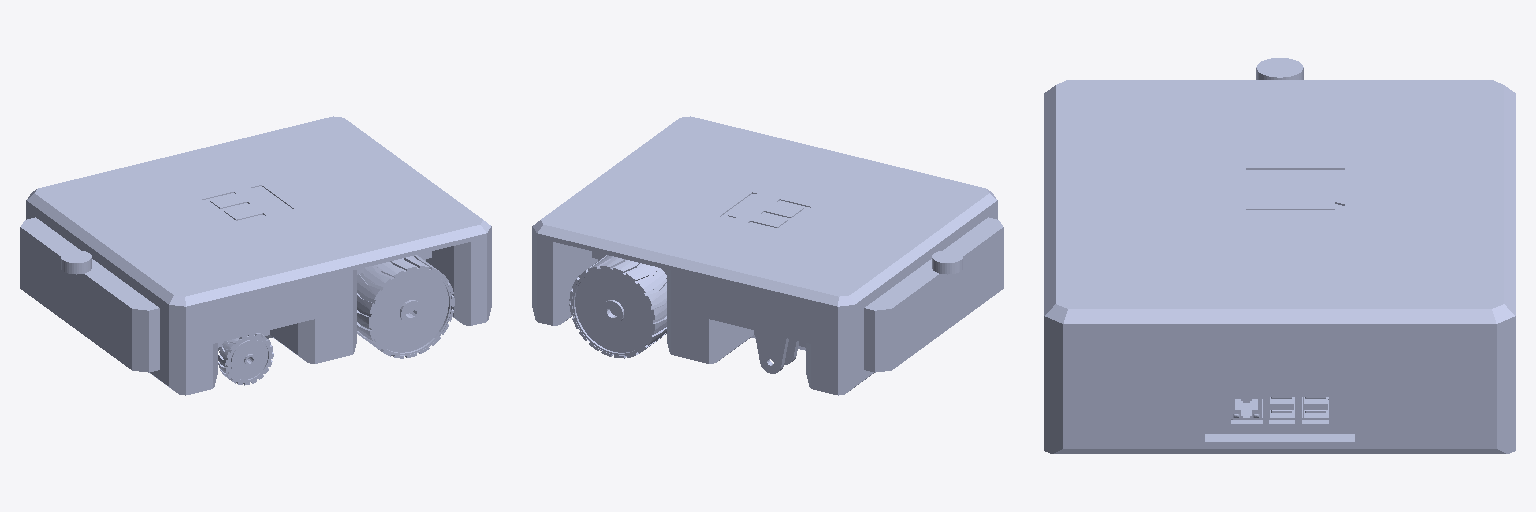
URDF robot description (AGV):
<?xml version="1.0" encoding="utf-8"?>
<!-- This URDF was automatically created by SolidWorks to URDF Exporter! Originally created by Stephen Brawner (brawner@gmail.com) 
     Commit Version: 1.6.0-4-g7f85cfe  Build Version: 1.6.7995.38578
     For more information, please see http://wiki.ros.org/sw_urdf_exporter -->
<robot
  name="AGV">
  <link
    name="base_link">
    <inertial>
      <origin
        xyz="6.7982E-05 0.05251 -0.013358"
        rpy="0 0 0" />
      <mass
        value="2.0304" />
      <inertia
        ixx="0.010955"
        ixy="0.00011029"
        ixz="7.5942E-08"
        iyy="0.029243"
        iyz="-7.82E-08"
        izz="0.018838" />
    </inertial>
    <visual>
      <origin
        xyz="0 0 0"
        rpy="0 0 0" />
      <geometry>
        <mesh
          filename="package://agv/meshes/base_link.STL" />
      </geometry>
      <material
        name="">
        <color
          rgba="0.79216 0.81961 0.93333 1" />
      </material>
    </visual>
    <collision>
      <origin
        xyz="0 0 0"
        rpy="0 0 0" />
      <geometry>
        <mesh
          filename="package://agv/meshes/base_link.STL" />
      </geometry>
    </collision>
  </link>
  <link
    name="Left_Wheel">
    <inertial>
      <origin
        xyz="-8.3267E-17 1.2434E-05 0.0175"
        rpy="0 0 0" />
      <mass
        value="0.15008" />
      <inertia
        ixx="7.2602E-05"
        ixy="-1.3674E-15"
        ixz="1.8E-14"
        iyy="7.2596E-05"
        iyz="-1.7782E-14"
        izz="0.0001208" />
    </inertial>
    <visual>
      <origin
        xyz="0 0 0"
        rpy="0 0 0" />
      <geometry>
        <mesh
          filename="package://agv/meshes/Left_Wheel.STL" />
      </geometry>
      <material
        name="">
        <color
          rgba="0.79216 0.81961 0.93333 1" />
      </material>
    </visual>
    <collision>
      <origin
        xyz="0 0 0"
        rpy="0 0 0" />
      <geometry>
        <mesh
          filename="package://agv/meshes/Left_Wheel.STL" />
      </geometry>
    </collision>
  </link>
  <joint
    name="lw"
    type="continuous">
    <origin
      xyz="0.078146 -0.076629 0.033354"
      rpy="1.5708 0.74576 0" />
    <parent
      link="base_link" />
    <child
      link="Left_Wheel" />
    <axis
      xyz="0 0 1" />
  </joint>
  <link
    name="Right_Wheel">
    <inertial>
      <origin
        xyz="-1.3878E-17 1.2434E-05 -0.0175"
        rpy="0 0 0" />
      <mass
        value="0.15008" />
      <inertia
        ixx="7.2602E-05"
        ixy="-1.3674E-15"
        ixz="1.8E-14"
        iyy="7.2596E-05"
        iyz="-1.7782E-14"
        izz="0.0001208" />
    </inertial>
    <visual>
      <origin
        xyz="0 0 0"
        rpy="0 0 0" />
      <geometry>
        <mesh
          filename="package://agv/meshes/Right_Wheel.STL" />
      </geometry>
      <material
        name="">
        <color
          rgba="0.79216 0.81961 0.93333 1" />
      </material>
    </visual>
    <collision>
      <origin
        xyz="0 0 0"
        rpy="0 0 0" />
      <geometry>
        <mesh
          filename="package://agv/meshes/Right_Wheel.STL" />
      </geometry>
    </collision>
  </link>
  <joint
    name="rw"
    type="continuous">
    <origin
      xyz="0.078146 0.10337 0.033354"
      rpy="1.5708 0.28991 0" />
    <parent
      link="base_link" />
    <child
      link="Right_Wheel" />
    <axis
      xyz="0 0 1" />
  </joint>
  <link
    name="Castor_Holder1">
    <inertial>
      <origin
        xyz="1.38777878078145E-17 0.0278545725602815 -1.38777878078145E-17"
        rpy="0 0 0" />
      <mass
        value="0.0125096896264229" />
      <inertia
        ixx="2.92007120935875E-06"
        ixy="-8.34472187194977E-22"
        ixz="-3.24777992708325E-09"
        iyy="1.65017674110526E-06"
        iyz="7.02147854422582E-23"
        izz="2.61649486462288E-06" />
    </inertial>
    <visual>
      <origin
        xyz="0 0 0"
        rpy="0 0 0" />
      <geometry>
        <mesh
          filename="package://agv/meshes/Castor_Holder1.STL" />
      </geometry>
      <material
        name="">
        <color
          rgba="0.792156862745098 0.819607843137255 0.933333333333333 1" />
      </material>
    </visual>
    <collision>
      <origin
        xyz="0 0 0"
        rpy="0 0 0" />
      <geometry>
        <mesh
          filename="package://agv/meshes/Castor_Holder1.STL" />
      </geometry>
    </collision>
  </link>
  <joint
    name="ch1"
    type="continuous">
    <origin
      xyz="-0.061854 -0.086629 0.006354"
      rpy="1.5708 0 -0.010697" />
    <parent
      link="base_link" />
    <child
      link="Castor_Holder1" />
    <axis
      xyz="0 1 0" />
  </joint>
  <link
    name="Castor_Wheel1">
    <inertial>
      <origin
        xyz="6.93889390390723E-18 -2.77555756156289E-17 -4.16333634234434E-17"
        rpy="0 0 0" />
      <mass
        value="0.0177238850700305" />
      <inertia
        ixx="2.37570442022247E-06"
        ixy="-3.91485784711108E-17"
        ixz="2.08354491983995E-08"
        iyy="2.37548153974429E-06"
        iyz="-3.65866341682527E-16"
        izz="4.32323453510918E-06" />
    </inertial>
    <visual>
      <origin
        xyz="0 0 0"
        rpy="0 0 0" />
      <geometry>
        <mesh
          filename="package://agv/meshes/Castor_Wheel1.STL" />
      </geometry>
      <material
        name="">
        <color
          rgba="0.792156862745098 0.819607843137255 0.933333333333333 1" />
      </material>
    </visual>
    <collision>
      <origin
        xyz="0 0 0"
        rpy="0 0 0" />
      <geometry>
        <mesh
          filename="package://agv/meshes/Castor_Wheel1.STL" />
      </geometry>
    </collision>
  </link>
  <joint
    name="cw1"
    type="continuous">
    <origin
      xyz="0 0.01 0"
      rpy="0 0 0" />
    <parent
      link="Castor_Holder1" />
    <child
      link="Castor_Wheel1" />
    <axis
      xyz="0.010697 0 0.99994" />
  </joint>
  <link
    name="Castor_Holder2">
    <inertial>
      <origin
        xyz="0 0.0278545725602815 0"
        rpy="0 0 0" />
      <mass
        value="0.0125096896264228" />
      <inertia
        ixx="2.92007120935875E-06"
        ixy="-5.53169257620765E-22"
        ixz="-3.24777992708309E-09"
        iyy="1.65017674110526E-06"
        iyz="-6.32549700520083E-22"
        izz="2.61649486462287E-06" />
    </inertial>
    <visual>
      <origin
        xyz="0 0 0"
        rpy="0 0 0" />
      <geometry>
        <mesh
          filename="package://agv/meshes/Castor_Holder2.STL" />
      </geometry>
      <material
        name="">
        <color
          rgba="0.792156862745098 0.819607843137255 0.933333333333333 1" />
      </material>
    </visual>
    <collision>
      <origin
        xyz="0 0 0"
        rpy="0 0 0" />
      <geometry>
        <mesh
          filename="package://agv/meshes/Castor_Holder2.STL" />
      </geometry>
    </collision>
  </link>
  <joint
    name="ch2"
    type="continuous">
    <origin
      xyz="-0.061854 0.11337 0.006354"
      rpy="1.5708 0 -0.010697" />
    <parent
      link="base_link" />
    <child
      link="Castor_Holder2" />
    <axis
      xyz="0 1 0" />
  </joint>
  <link
    name="Castor_Wheel2">
    <inertial>
      <origin
        xyz="2.77555756156289E-17 -2.42861286636753E-17 0"
        rpy="0 0 0" />
      <mass
        value="0.0177238850700305" />
      <inertia
        ixx="2.37570442022247E-06"
        ixy="-3.9146797319591E-17"
        ixz="2.08354491983988E-08"
        iyy="2.3754815397443E-06"
        iyz="-3.65865976726571E-16"
        izz="4.32323453510918E-06" />
    </inertial>
    <visual>
      <origin
        xyz="0 0 0"
        rpy="0 0 0" />
      <geometry>
        <mesh
          filename="package://agv/meshes/Castor_Wheel2.STL" />
      </geometry>
      <material
        name="">
        <color
          rgba="0.792156862745098 0.819607843137255 0.933333333333333 1" />
      </material>
    </visual>
    <collision>
      <origin
        xyz="0 0 0"
        rpy="0 0 0" />
      <geometry>
        <mesh
          filename="package://agv/meshes/Castor_Wheel2.STL" />
      </geometry>
    </collision>
  </link>
  <joint
    name="cw2"
    type="continuous">
    <origin
      xyz="0 0.01 0"
      rpy="0 0 0" />
    <parent
      link="Castor_Holder2" />
    <child
      link="Castor_Wheel2" />
    <axis
      xyz="0.010697 0 0.99994" />
  </joint>
  <link
    name="Lidar">
    <inertial>
      <origin
        xyz="2.7756E-17 0.005 1.7347E-18"
        rpy="0 0 0" />
      <mass
        value="0.0049087" />
      <inertia
        ixx="2.3265E-07"
        ixy="-5.9287E-40"
        ixz="1.0355E-54"
        iyy="3.835E-07"
        iyz="-1.3184E-38"
        izz="2.3265E-07" />
    </inertial>
    <visual>
      <origin
        xyz="0 0 0"
        rpy="0 0 0" />
      <geometry>
        <mesh
          filename="package://agv/meshes/Lidar.STL" />
      </geometry>
      <material
        name="">
        <color
          rgba="0.79216 0.81961 0.93333 1" />
      </material>
    </visual>
    <collision>
      <origin
        xyz="0 0 0"
        rpy="0 0 0" />
      <geometry>
        <mesh
          filename="package://agv/meshes/Lidar.STL" />
      </geometry>
    </collision>
  </link>
  <joint
    name="lidar_joint"
    type="fixed">
    <origin
      xyz="-0.16185 0.013371 0.078354"
      rpy="1.5708 0 0" />
    <parent
      link="base_link" />
    <child
      link="Lidar" />
    <axis
      xyz="0 1 0" />
  </joint>
</robot>

--- Render facts (derived) ---
Views: 3 orthographic renders of the robot side by side, from view 1: azimuth 30°, elevation 25°; view 2: azimuth 150°, elevation 25°; view 3: azimuth 270°, elevation 25°.
Robot: AGV — 8 links, 7 joints (6 continuous, 1 fixed); root link base_link; default pose: all joints at 0.
Links seen in each view (by area): view 1: base_link, Left_Wheel, Castor_Wheel1, Lidar; view 2: base_link, Right_Wheel, Castor_Holder2, Lidar; view 3: base_link, Lidar.
Boxes of the visible links, left/top/right/bottom form: base_link: left=20, top=116, right=491, bottom=395; Left_Wheel: left=357, top=255, right=454, bottom=358; Castor_Wheel1: left=218, top=333, right=273, bottom=385; Lidar: left=61, top=250, right=91, bottom=274; base_link: left=532, top=116, right=1003, bottom=395; Right_Wheel: left=569, top=255, right=666, bottom=358; Castor_Holder2: left=754, top=330, right=798, bottom=373; Lidar: left=932, top=250, right=962, bottom=274; base_link: left=1044, top=80, right=1515, bottom=453; Lidar: left=1256, top=58, right=1303, bottom=79.
Size in the robot's own frame: 0.3325 by 0.25 by 0.1 metres.
Meshes: 8 distinct files referenced, 6 mesh visuals loaded (6 binary STL); not drawn: 2 (reference not matched to a file when rendering).
